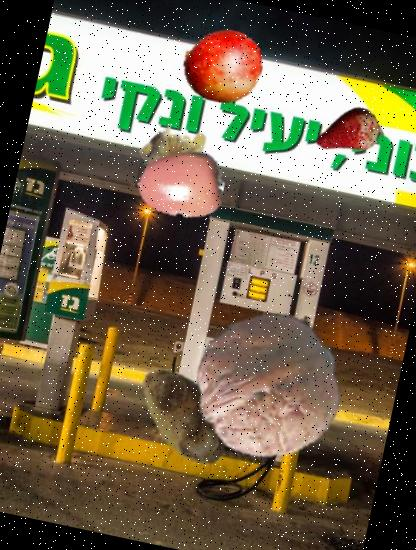Ginger: (118, 348, 251, 482)
Kaki: (130, 132, 232, 234)
Nectarine: (176, 20, 269, 113)
Physalis: (130, 114, 220, 204)
Strawberry: (310, 97, 387, 174)
Walnut: (179, 299, 356, 476)
